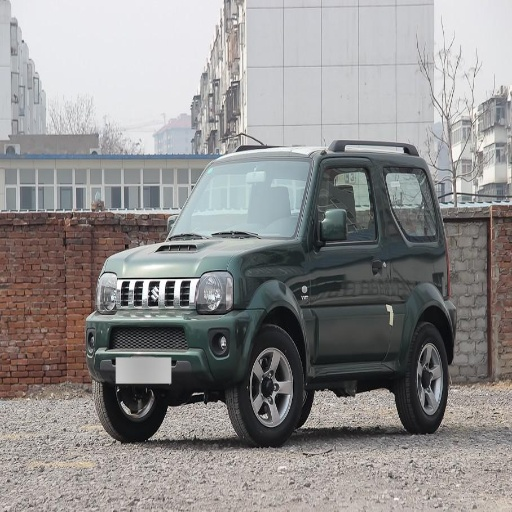front_bumper: (86, 274, 258, 389)
front_glass: (174, 161, 309, 234)
front_left_door: (310, 159, 360, 362)
trunk: (348, 241, 434, 356)
